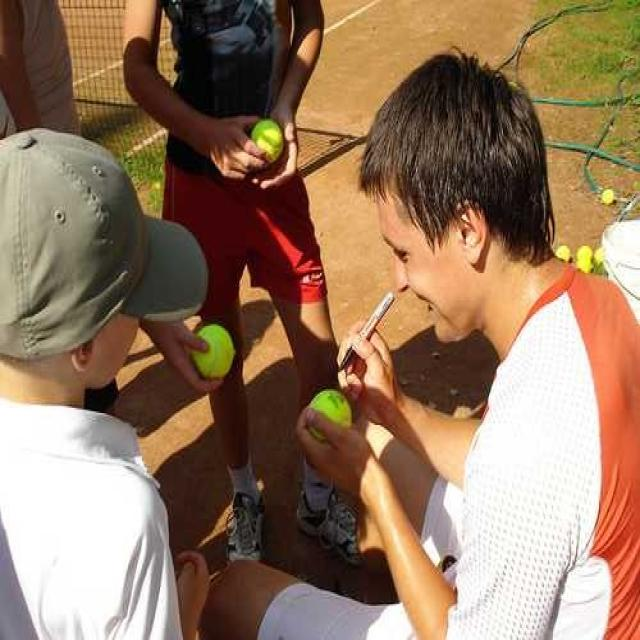Tennis_Ball: (307, 388, 356, 431), (192, 329, 237, 374), (254, 122, 282, 162), (555, 244, 571, 262), (579, 260, 594, 274), (578, 245, 590, 260), (603, 190, 614, 204)
